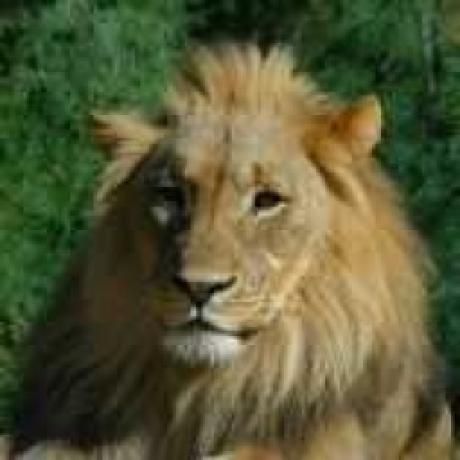Lion: (0, 33, 460, 460)
